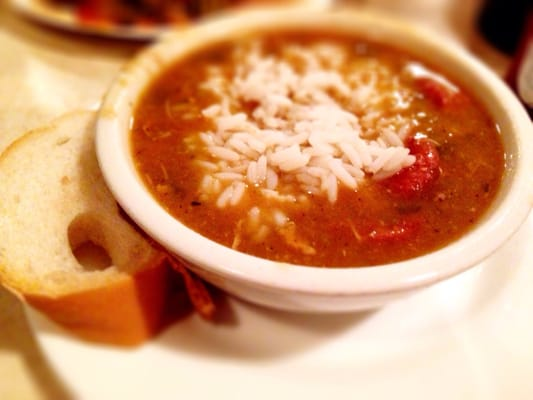sushi: (94, 7, 527, 317)
